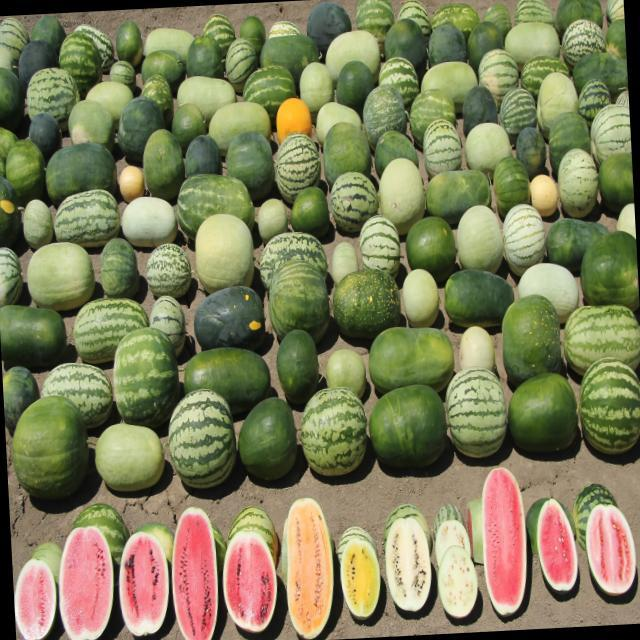WATERMELON: (296, 378, 374, 486), (54, 523, 120, 640), (481, 463, 529, 617), (167, 386, 239, 488), (286, 498, 338, 638), (372, 383, 448, 477), (8, 406, 88, 494), (109, 321, 180, 418), (578, 354, 640, 462), (177, 160, 262, 236), (221, 530, 281, 636), (172, 508, 220, 640), (91, 416, 168, 496), (118, 535, 176, 639), (442, 369, 512, 455), (0, 285, 74, 365), (510, 369, 578, 454), (560, 294, 640, 366), (368, 322, 457, 384), (585, 500, 639, 600), (189, 281, 268, 347), (501, 294, 564, 376), (240, 393, 298, 482), (332, 263, 405, 331), (27, 237, 94, 310), (41, 357, 113, 424), (386, 515, 433, 616), (185, 351, 271, 406), (73, 288, 148, 350), (338, 534, 389, 625), (68, 494, 132, 565), (452, 200, 507, 281), (196, 218, 256, 290), (270, 265, 336, 330), (426, 160, 498, 218), (534, 498, 578, 592), (582, 230, 639, 301), (378, 148, 426, 232), (42, 136, 114, 192), (518, 256, 584, 315), (12, 559, 60, 640), (445, 274, 509, 334), (55, 188, 121, 246), (23, 58, 79, 124), (256, 226, 328, 277), (121, 191, 178, 253), (178, 62, 235, 122), (273, 328, 320, 400), (550, 206, 610, 262), (590, 94, 632, 174), (558, 140, 602, 216), (139, 125, 185, 197), (83, 55, 137, 116), (322, 333, 369, 403), (504, 194, 546, 272), (118, 78, 162, 152), (358, 213, 405, 280), (209, 95, 272, 144), (327, 166, 382, 220), (96, 236, 142, 298), (70, 80, 116, 140), (266, 20, 316, 74), (246, 54, 296, 104), (407, 215, 452, 269), (442, 552, 478, 618), (144, 242, 191, 292), (456, 320, 496, 378), (492, 152, 530, 213), (65, 26, 106, 82), (402, 264, 442, 318), (141, 22, 200, 58), (220, 28, 258, 83), (139, 46, 188, 87), (3, 361, 35, 422), (182, 28, 226, 72), (11, 126, 37, 199), (176, 130, 221, 170), (150, 296, 187, 344), (30, 13, 67, 60), (256, 189, 290, 240), (0, 62, 23, 132), (114, 152, 151, 194), (0, 178, 23, 245), (294, 181, 328, 226), (104, 46, 145, 83), (435, 518, 469, 560), (28, 195, 58, 242), (532, 164, 559, 213), (332, 232, 356, 284), (140, 71, 173, 108), (613, 194, 636, 243), (0, 110, 13, 196), (204, 15, 236, 49), (0, 15, 31, 50), (0, 236, 19, 292), (240, 13, 268, 49), (117, 17, 142, 47), (0, 36, 15, 74)
